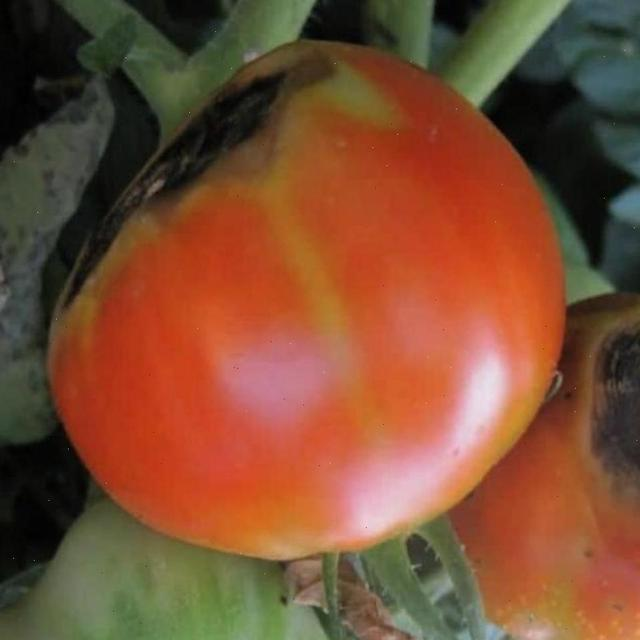Blossom End Rot Fruit: (35, 125, 409, 277)
